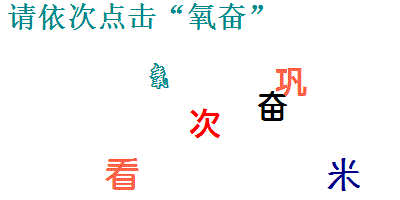text: (327, 155, 362, 192), (105, 156, 139, 191), (274, 65, 309, 99), (189, 106, 222, 141), (257, 89, 288, 122), (148, 61, 170, 91)
